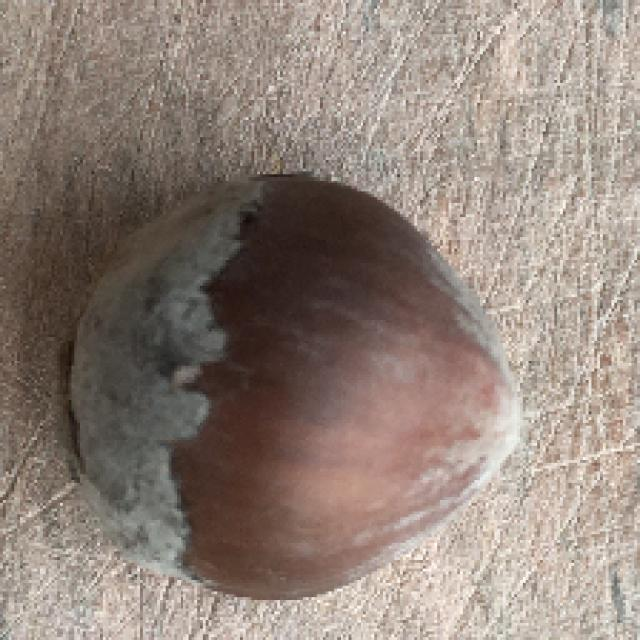DamagedHazelnut: (57, 167, 531, 594)
